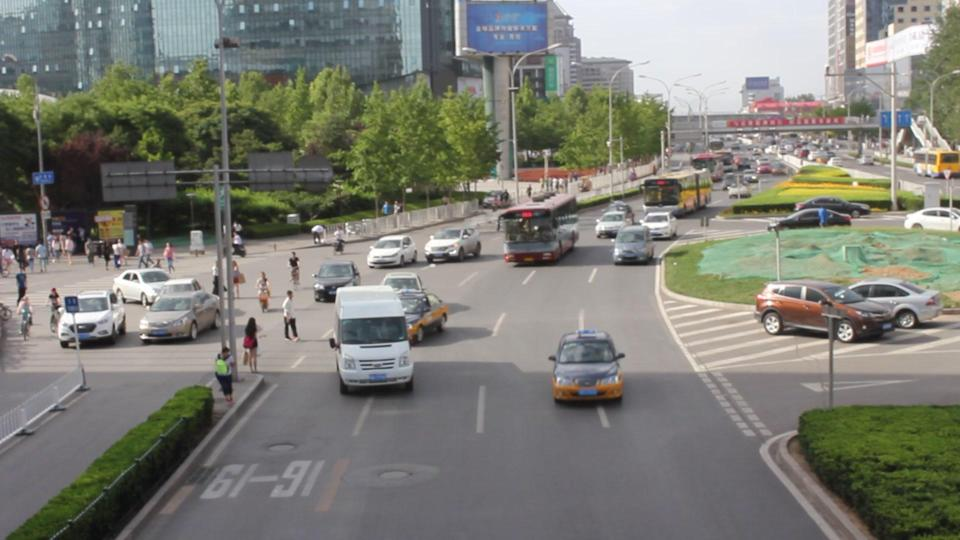Bus: (503, 192, 576, 261)
Car: (553, 330, 620, 400), (380, 289, 447, 341), (377, 270, 423, 315), (424, 225, 480, 259), (314, 259, 360, 298), (611, 223, 653, 263), (367, 234, 417, 265), (637, 209, 675, 238), (593, 209, 630, 238)
Minivan: (333, 283, 409, 387)
